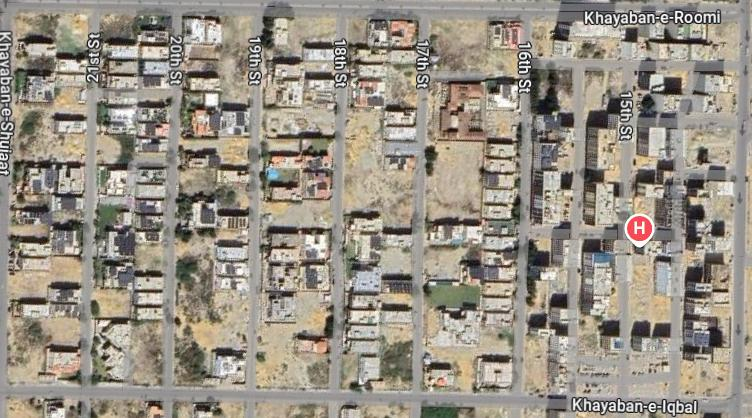Buildings: (525, 20, 735, 397), (423, 20, 520, 391), (91, 17, 172, 385), (6, 16, 87, 383), (254, 18, 333, 389), (177, 13, 251, 385), (342, 19, 415, 387)
